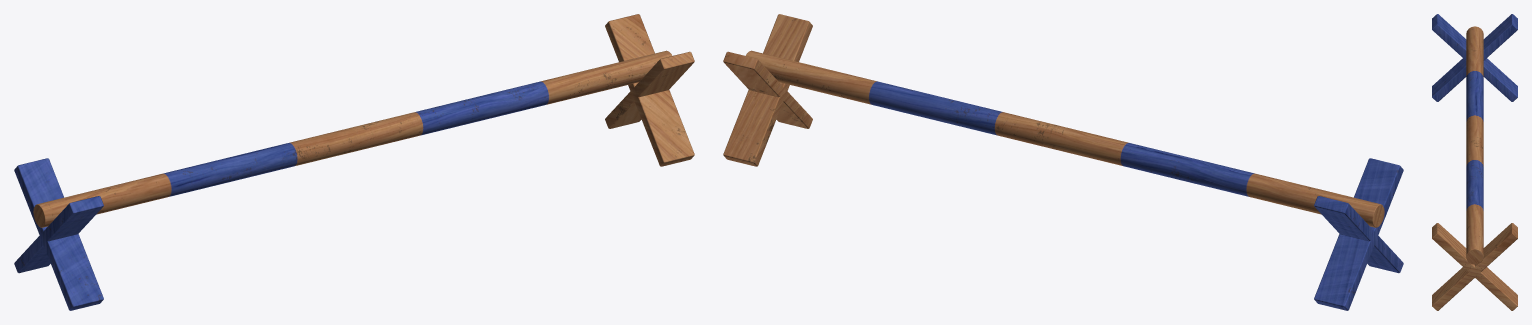
File: 00_Barrier1.glb
3 renders of one model, left to right at view 1: azimuth 30°, elevation 25°; view 2: azimuth 150°, elevation 25°; view 3: azimuth 270°, elevation 25°, orthographic. The views are drawn at different scales.
Visible parts, largest first — view 1: Barrier1; view 2: Barrier1; view 3: Barrier1.
Boxes of the visible parts, bbox=[...] form: Barrier1: bbox=[14, 14, 694, 310]; Barrier1: bbox=[723, 14, 1403, 310]; Barrier1: bbox=[1432, 14, 1517, 310].
Bounding box in the file's own units: 3 × 0.4881 × 0.4881.
Materials: 1 (1 with a texture image).
